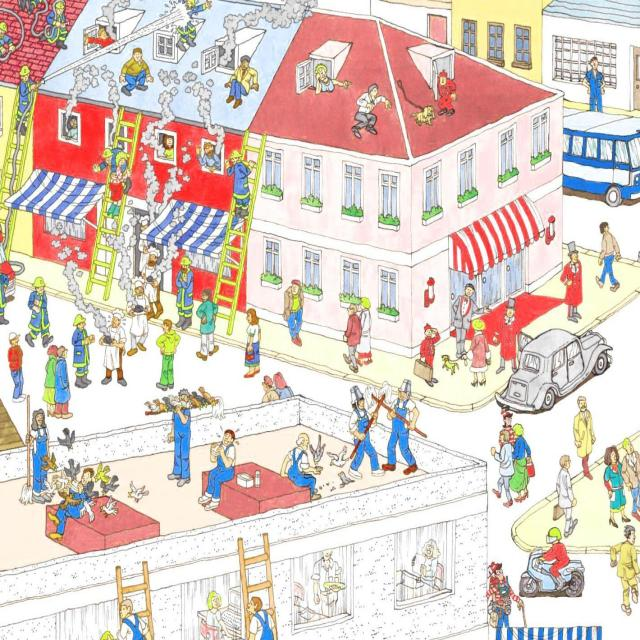waldo: (491, 561, 504, 580)
